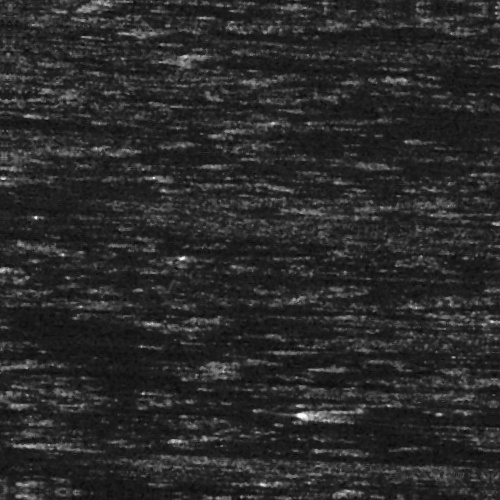object: (156, 47, 249, 64), (118, 54, 211, 71), (345, 67, 450, 78), (145, 434, 270, 443), (145, 372, 260, 381), (4, 447, 109, 456), (307, 480, 412, 489), (237, 475, 320, 484), (144, 174, 217, 181), (312, 441, 385, 448), (193, 317, 256, 322), (144, 270, 185, 277), (40, 0, 93, 5), (122, 33, 175, 38), (263, 344, 316, 349), (339, 360, 370, 363), (490, 203, 500, 210), (7, 275, 18, 280)
shadow: (165, 54, 500, 71), (203, 47, 500, 64), (207, 434, 452, 443), (164, 270, 411, 277), (181, 174, 342, 181), (398, 67, 500, 78), (349, 441, 500, 448), (290, 344, 500, 349), (67, 0, 224, 5), (360, 480, 443, 489), (203, 372, 285, 381), (279, 475, 361, 484), (57, 447, 135, 456), (225, 317, 307, 322), (12, 275, 92, 280), (149, 33, 229, 38), (355, 360, 440, 363), (0, 128, 36, 133)
